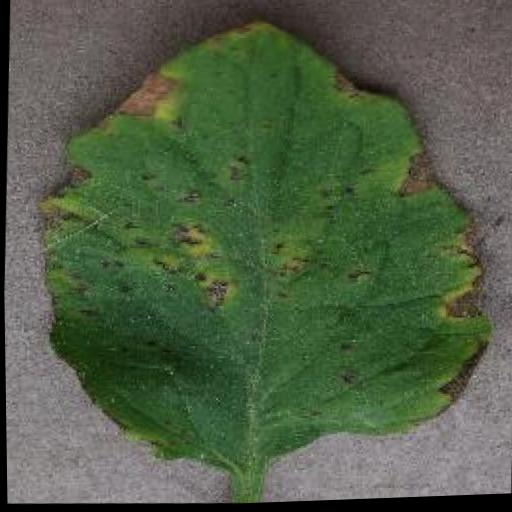Bacterial Spot: (23, 5, 504, 489)
